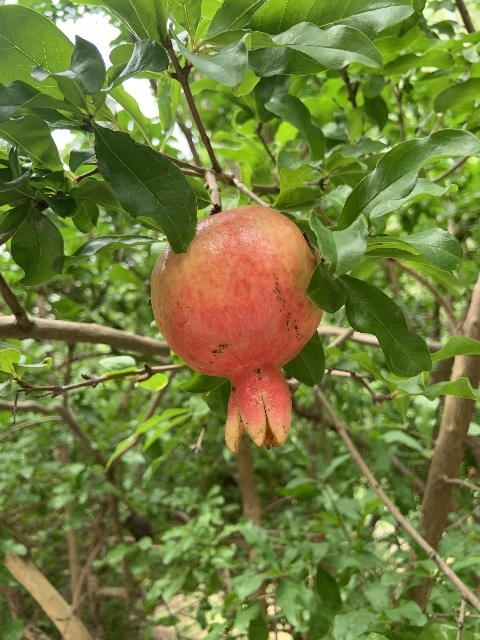ripe: (150, 205, 323, 453)
